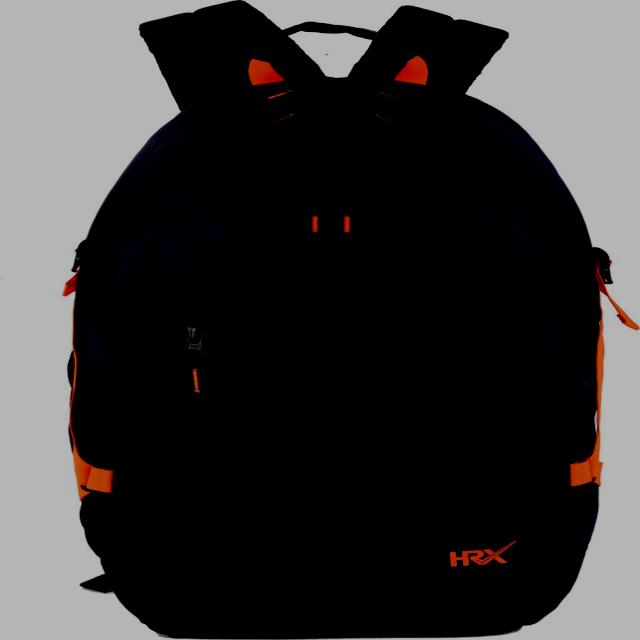backpack: (64, 2, 632, 640)
